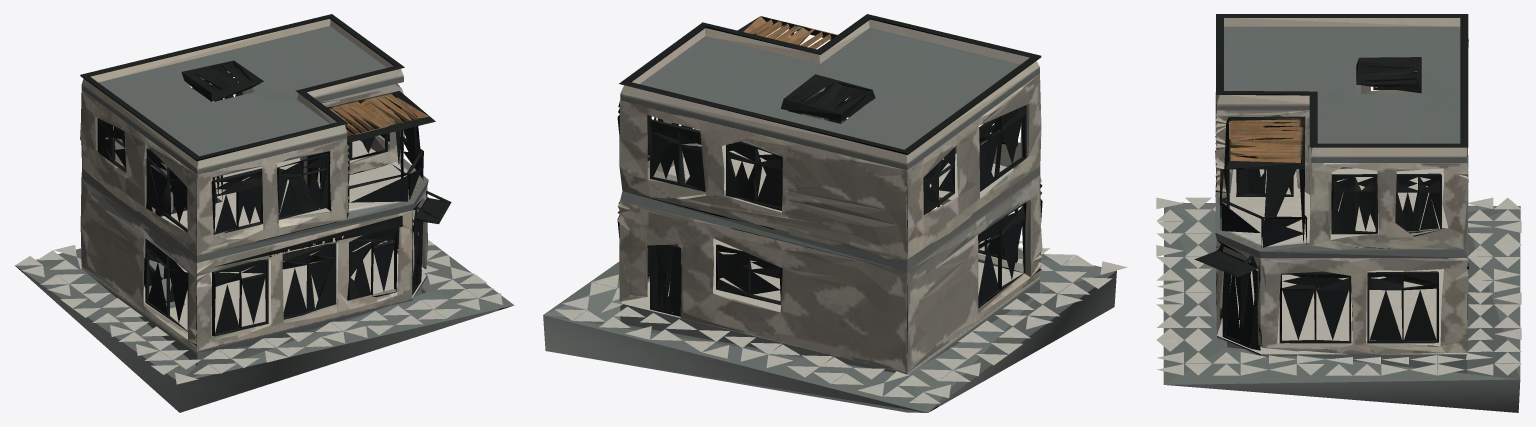
Rendered from stone_shop_lod1.glb.
The picture shows the model from 3 angles, left to right: view 1: azimuth 30°, elevation 25°; view 2: azimuth 150°, elevation 25°; view 3: azimuth 270°, elevation 25°; orthographic projection. The views are drawn at different scales.
Parts seen in each view (by area): view 1: stone_shop; view 2: stone_shop; view 3: stone_shop.
Part boxes in pixels (<box>): stone_shop: <box>14,14,514,412</box>; stone_shop: <box>543,14,1127,412</box>; stone_shop: <box>1156,14,1521,412</box>.
Size of the model in its own units: 13.66 by 8.64 by 11.69.
Materials: 1 (1 with a texture image).
